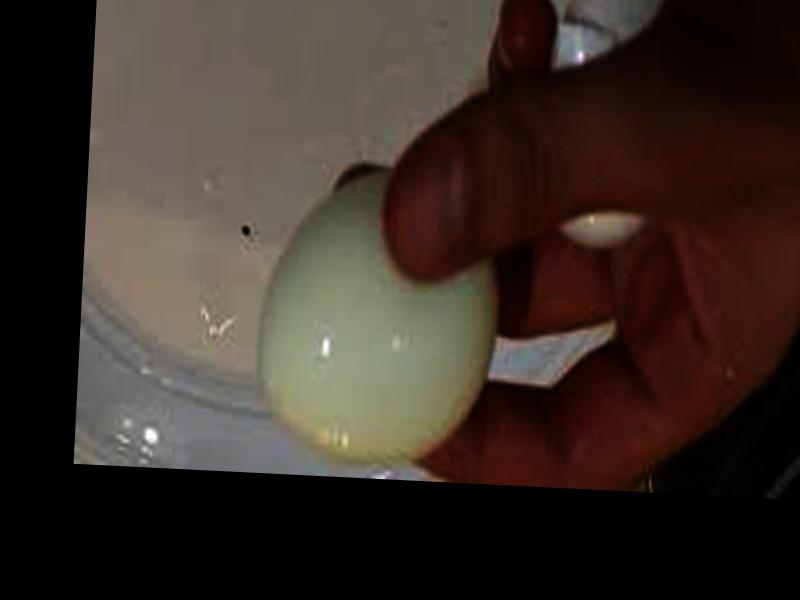Eggs: (258, 161, 505, 480)
